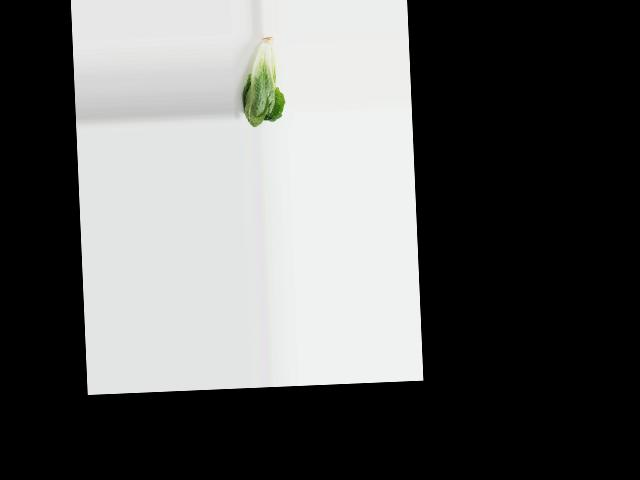lettuce: (237, 31, 287, 128)
